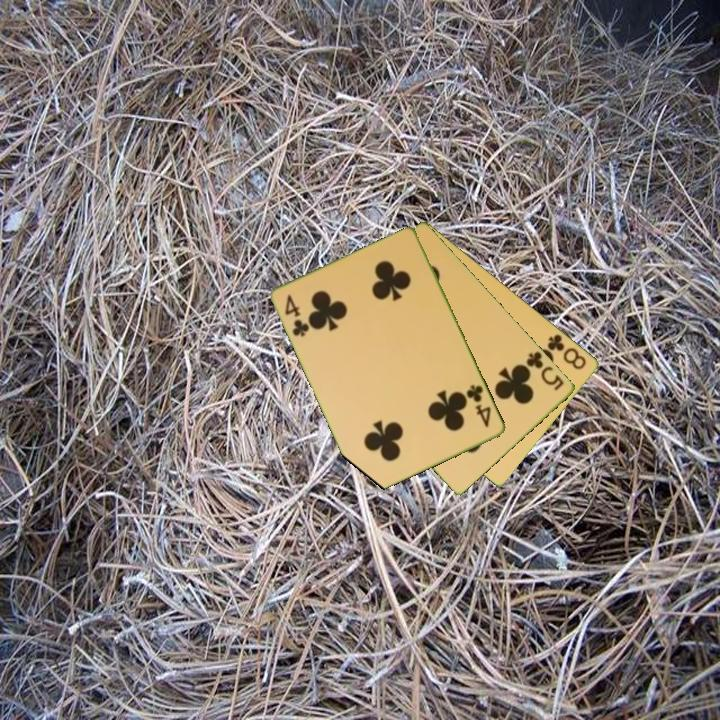4c: (463, 381, 494, 430), (282, 291, 313, 340)
5c: (521, 347, 567, 393)
8c: (544, 331, 590, 372)
